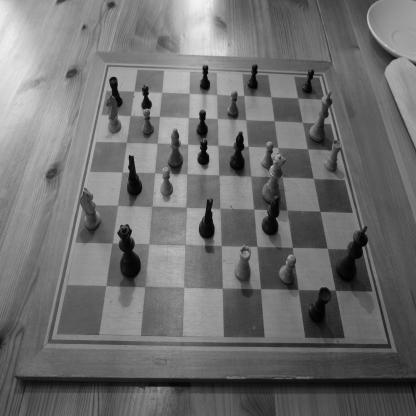black-bishop: (261, 196, 280, 236), (229, 130, 245, 170)
black-king: (336, 225, 368, 282)
black-knight: (198, 197, 214, 239), (127, 154, 142, 196)
black-pawn: (197, 138, 210, 165), (196, 109, 208, 136), (302, 68, 314, 94), (247, 63, 258, 89), (141, 84, 152, 110), (200, 64, 210, 90)
black-rook: (308, 286, 332, 323), (108, 76, 122, 108)
white-bishop: (167, 127, 183, 168)
white-king: (309, 88, 333, 143)
white-knight: (80, 187, 101, 230), (104, 91, 122, 134)
white-pawn: (278, 254, 297, 285), (260, 141, 274, 169), (160, 166, 173, 196), (227, 90, 239, 117), (142, 108, 154, 135)
white-queen: (117, 224, 141, 278), (262, 151, 286, 203)
white-rook: (234, 245, 252, 280), (323, 139, 342, 172)
